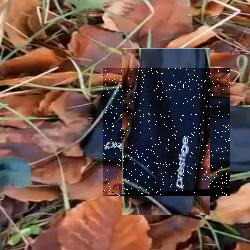restaffald: (103, 68, 230, 196)
